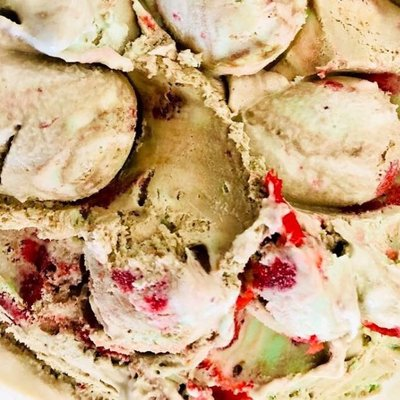sandwich: (0, 2, 396, 400)
